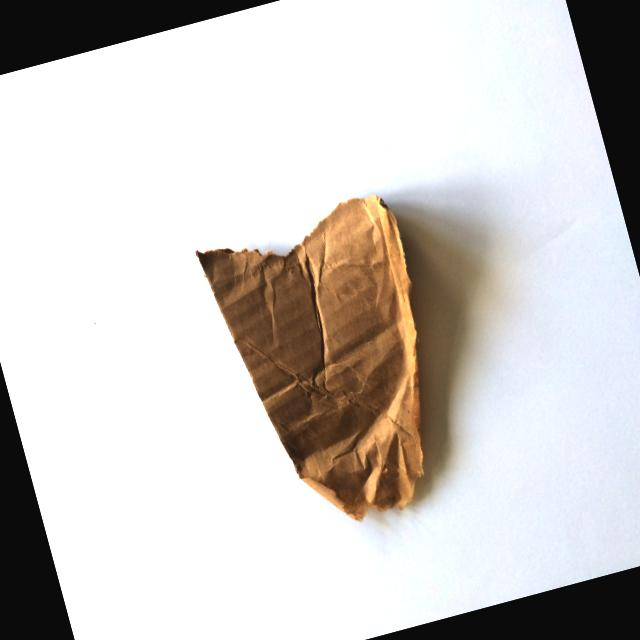Cardboard: (173, 150, 484, 560)
